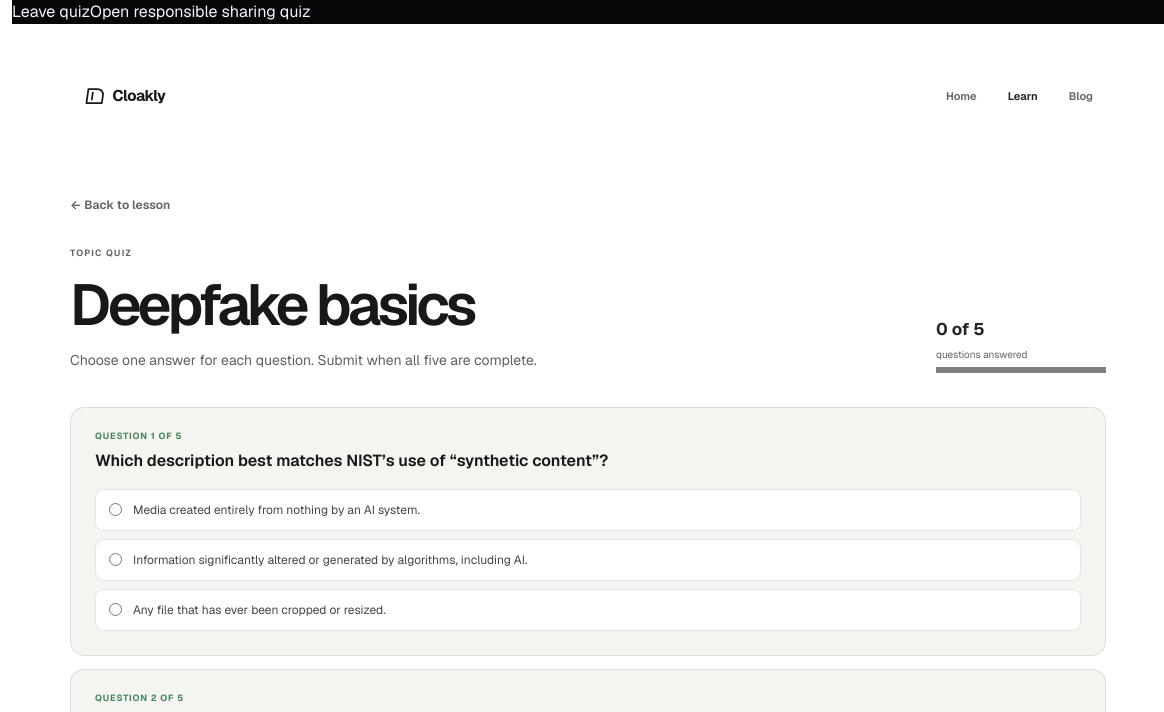
Test: quiz attempt flow › awards completion and a 0/5 result when every answer is wrong
The image size is (1164, 712).
Click the radio button labelled "Media created entirely from nothing by an AI system.": (116, 510) [109,503,122,516]
(page scrolled)
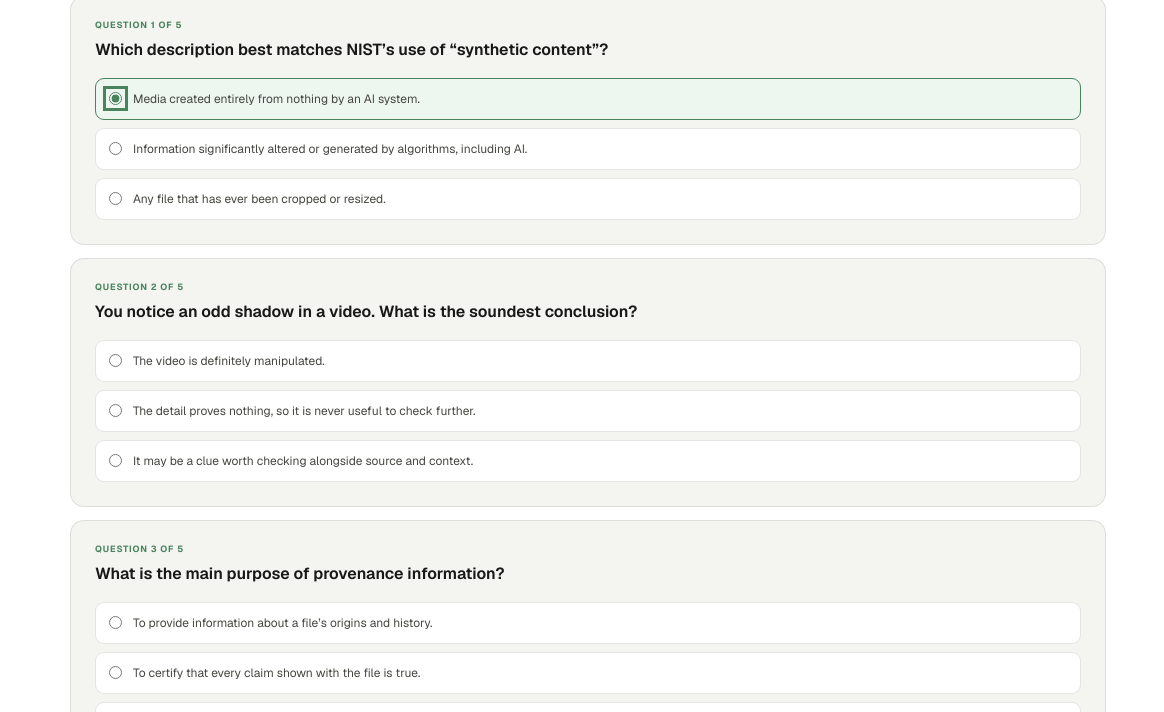
Click the radio button labelled "The video is definitely manipulated.": (116, 361) [109,354,122,367]
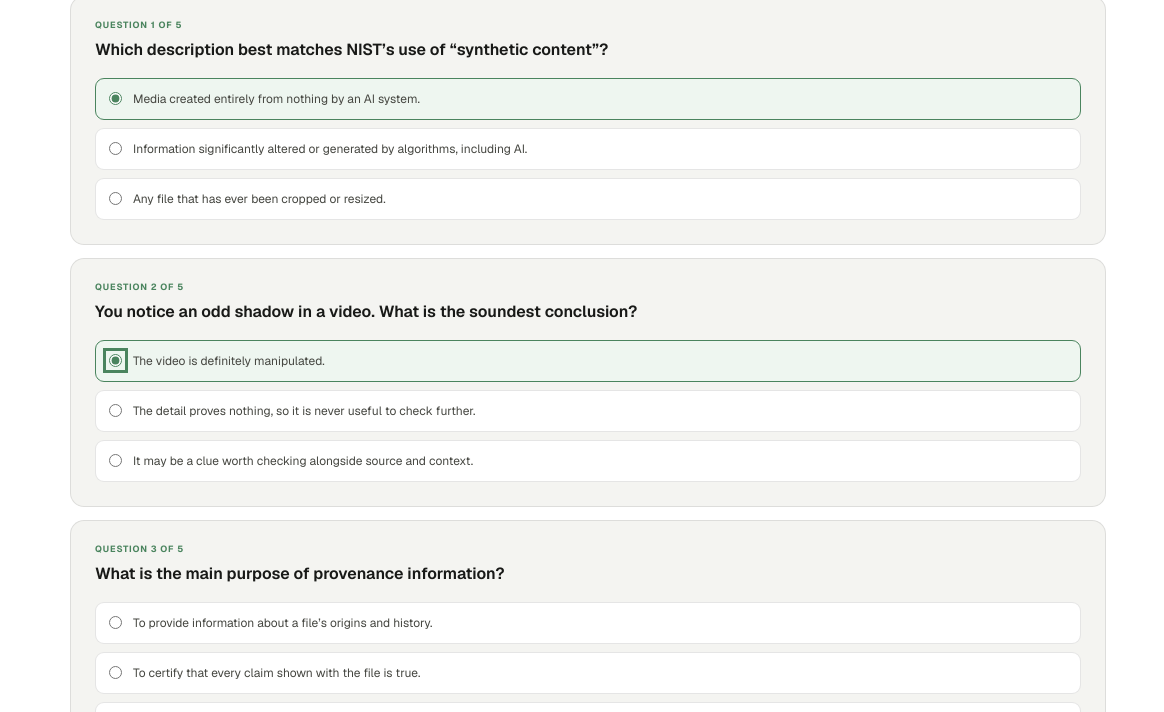
Click the radio button labelled "To certify that every claim shown with the file is true.": (116, 673) [109,666,122,679]
(page scrolled)
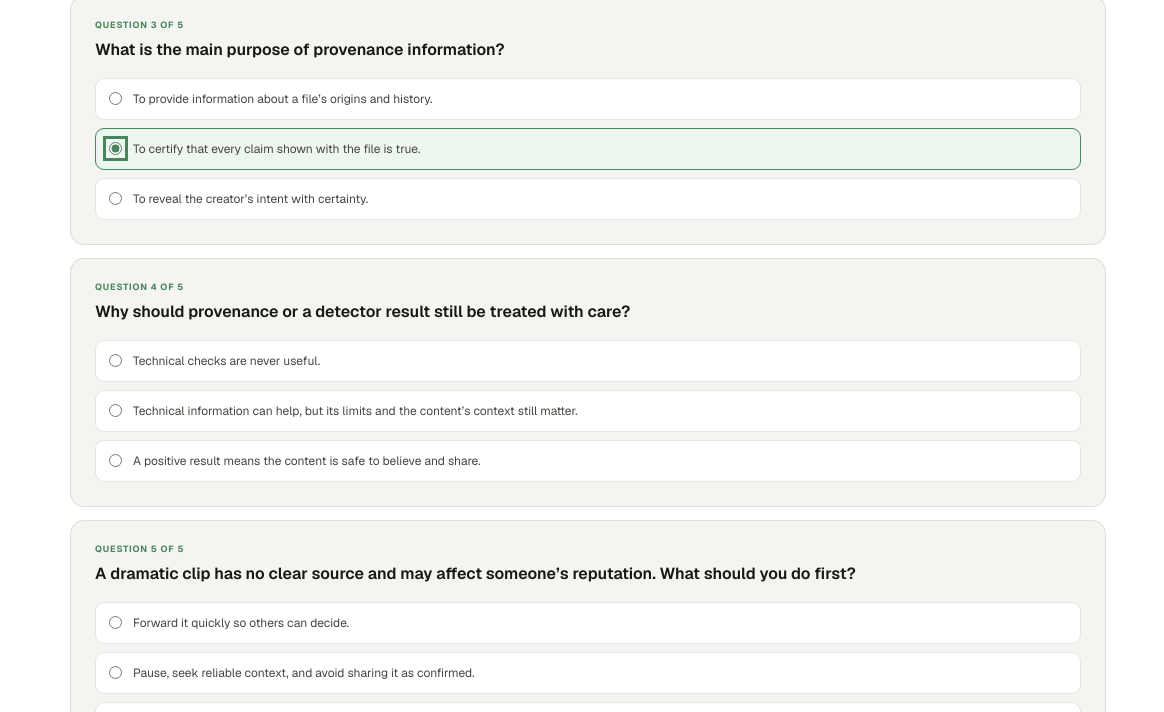
Click the radio button labelled "Technical checks are never useful.": (116, 361) [109,354,122,367]
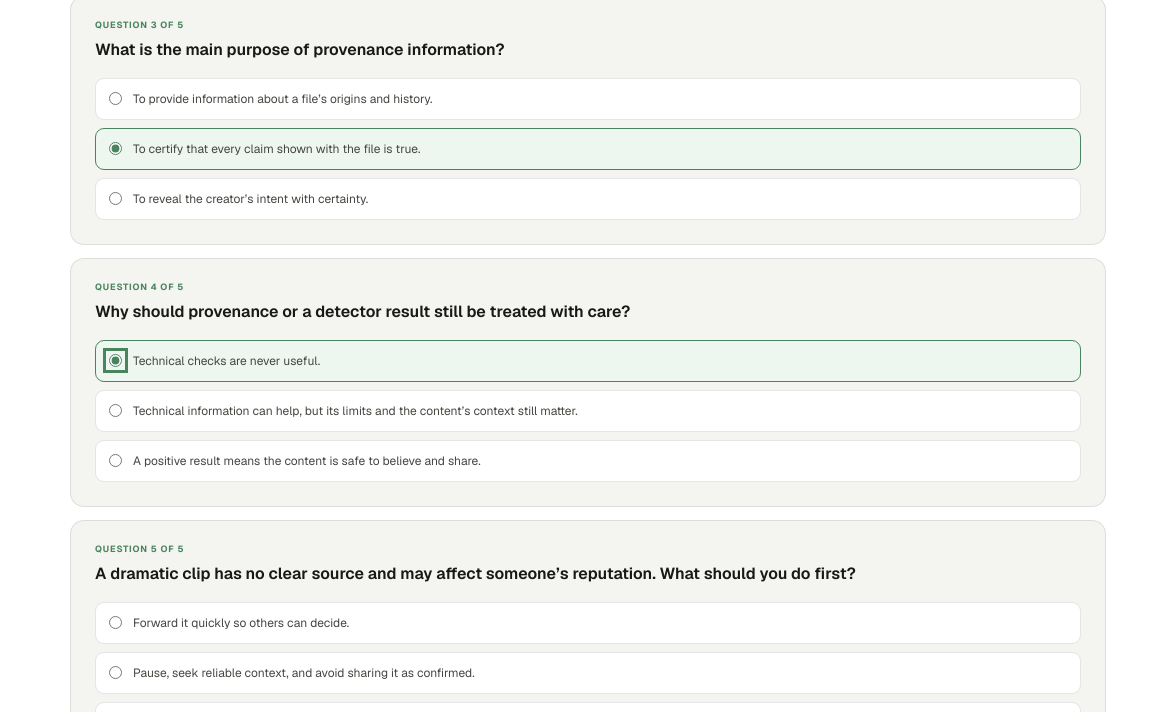
Click the radio button labelled "Forward it quickly so others can decide.": (116, 623) [109,616,122,629]
(page scrolled)
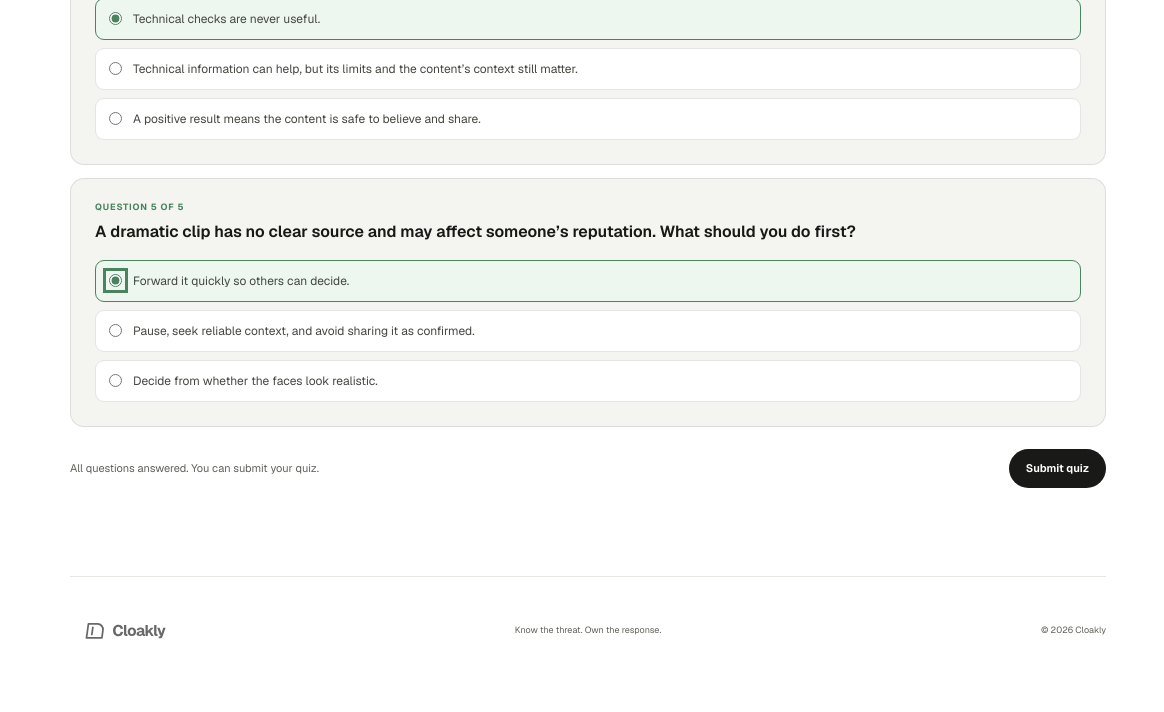
Click the button "Submit quiz": (1057, 468) [1009,449,1106,488]
(page scrolled)
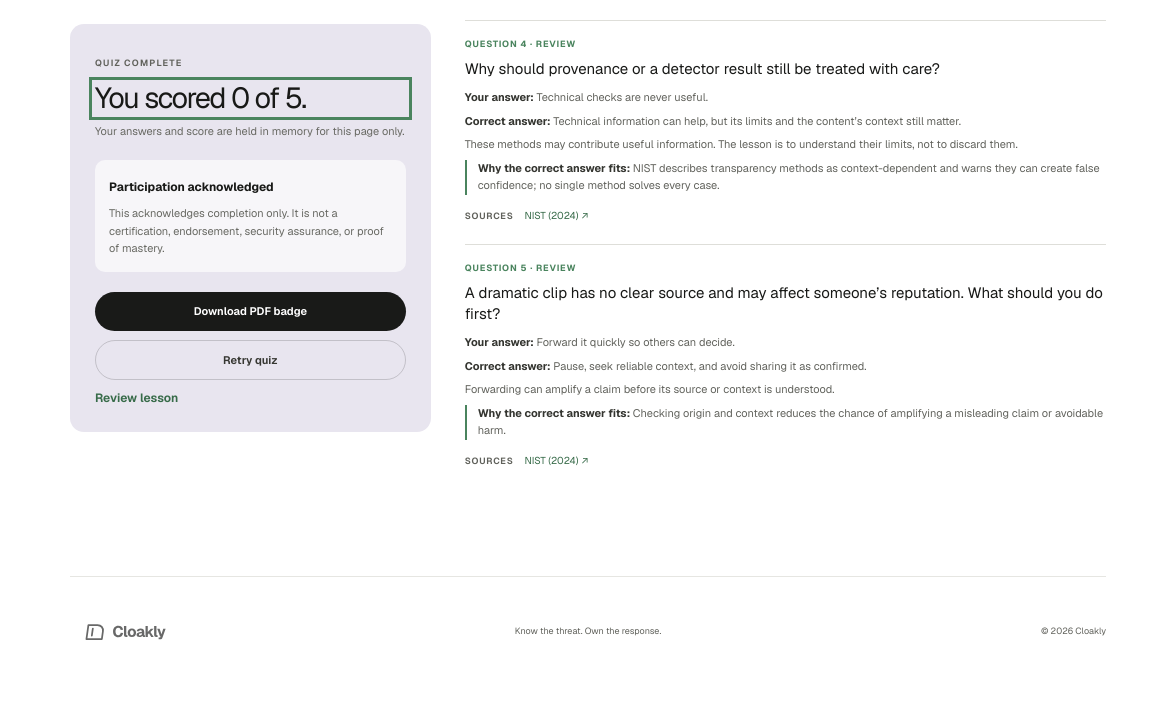
Check: the heading "You scored 0 of 5." is shown, box [95,79,306,117]
Check: the text "This acknowledges completion only" is shown, box [109,206,384,255]
Check: the text "These methods may contribute useful information. The lesson is to understand their limits, not to discard them." is shown, box [465,137,1018,151]
